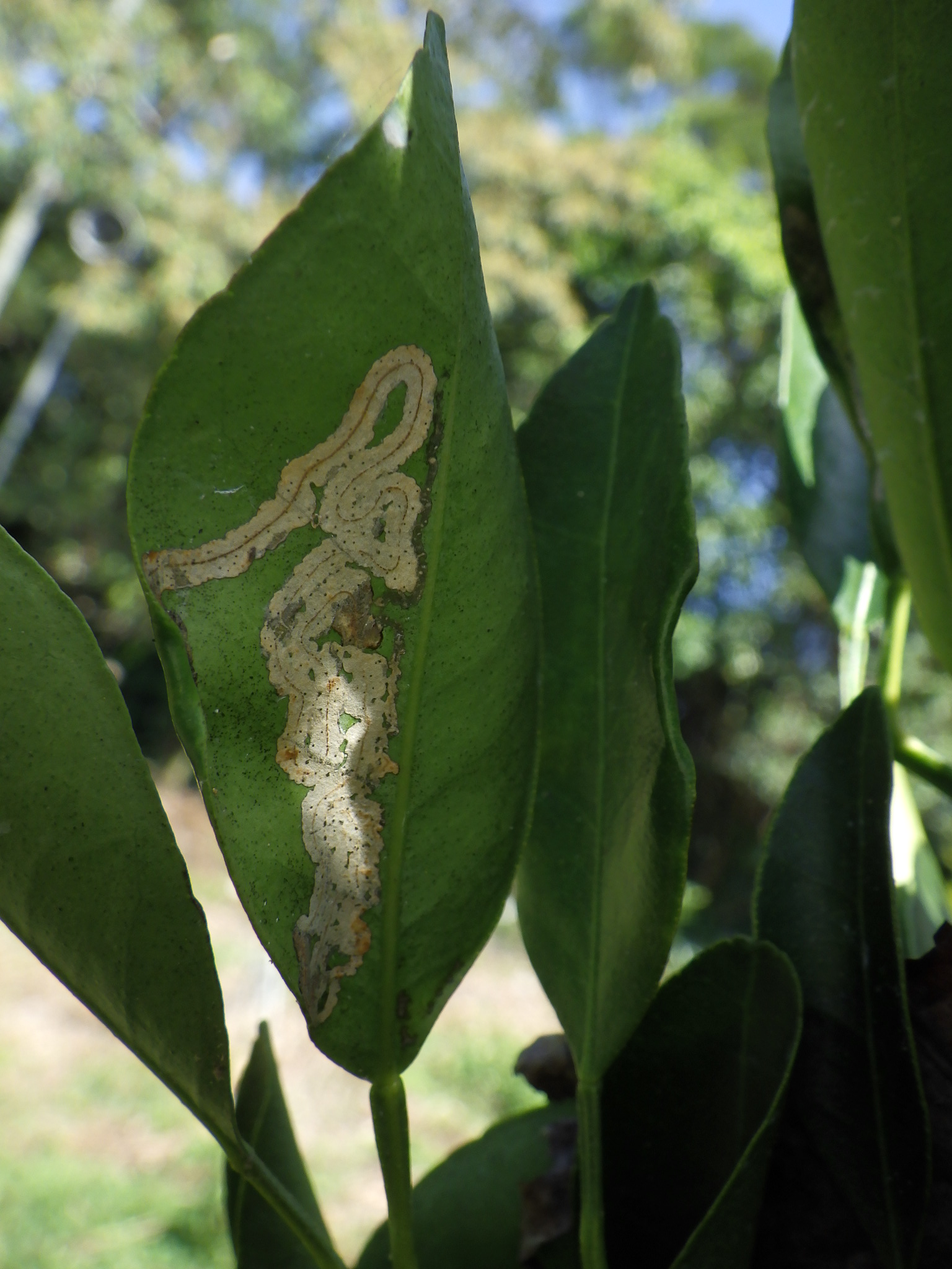Citrus_Leaf_Miner: (145, 345, 436, 1021)
